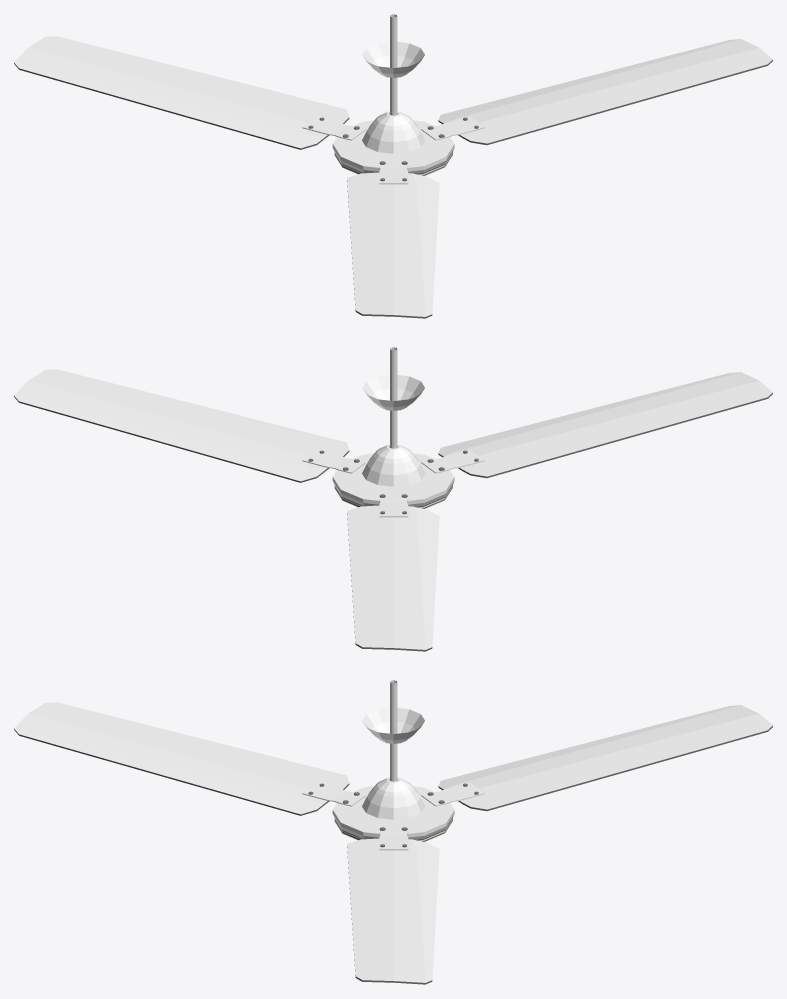
The model's file is fan.obj.
3 renders of one model, top to bottom at view 1: azimuth 30°, elevation 25°; view 2: azimuth 150°, elevation 25°; view 3: azimuth 270°, elevation 25°, orthographic.
Parts seen in each view (by area): view 1: Circle, Circle.001; view 2: Circle, Circle.001; view 3: Circle, Circle.001.
Boxes of the visible parts, x1,y1,x2,y2 form: Circle: (14, 36, 772, 318); Circle.001: (362, 14, 425, 153); Circle: (14, 369, 772, 651); Circle.001: (362, 347, 425, 486); Circle: (14, 702, 772, 984); Circle.001: (362, 680, 425, 819).
Bounding box in the file's own units: 1.16 × 0.2764 × 1.33.
1 material, 1 textured.
